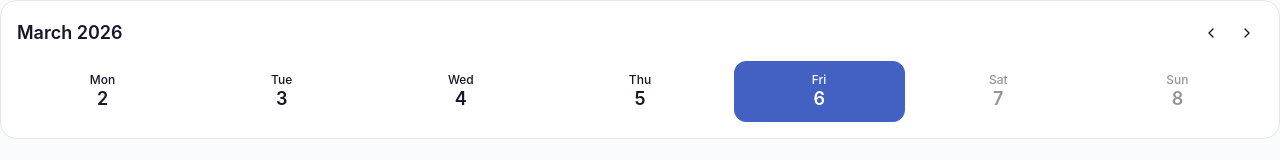
CalendarPicker › navigates weeks with arrow buttons and updates month/year label
What coordinates should you click on to do the following:
click the button named "Previous week"
I would click on:
 (1211, 33)
Its box is [1195,17,1227,49].
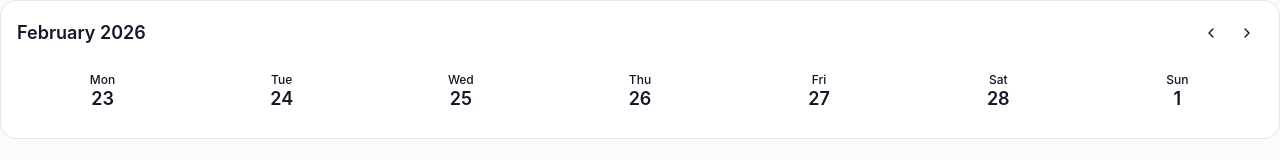
expect the text "February 2026" is shown: met, box [17,19,146,47]
